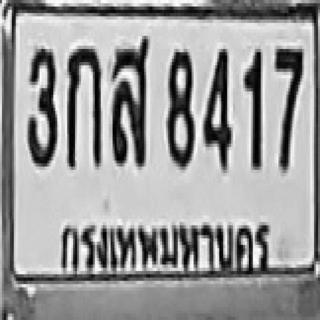A01: (65, 42, 101, 166)
A40: (111, 34, 148, 162)
N01: (243, 47, 261, 168)
N03: (26, 46, 55, 163)
N04: (201, 47, 229, 168)
N07: (274, 46, 303, 170)
N08: (166, 47, 194, 165)
P04: (54, 213, 277, 279)
